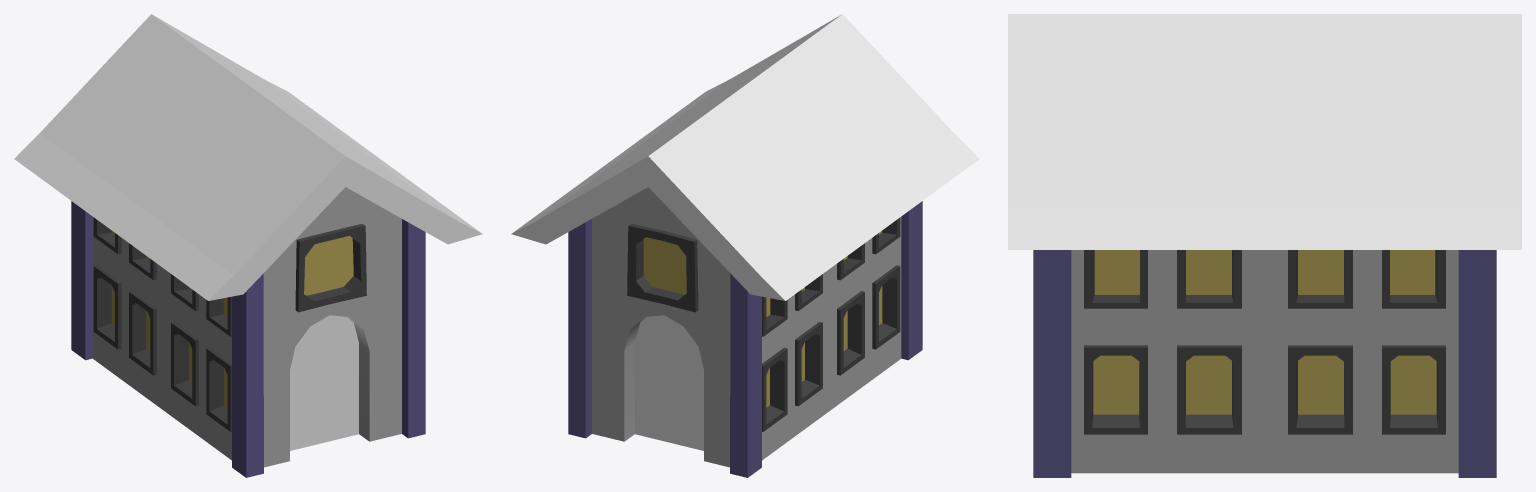
Rendered from biggerhouse.fbx.
3 renders of one model, left to right at view 1: azimuth 30°, elevation 25°; view 2: azimuth 150°, elevation 25°; view 3: azimuth 270°, elevation 25°, orthographic. The views are drawn at different scales.
Visible parts, largest first — view 1: pCube42; view 2: pCube42; view 3: pCube42.
Part boxes in pixels (x1,y1,x2,y2): pCube42: (14,14,482,477); pCube42: (511,14,979,477); pCube42: (1008,14,1521,477).
Bounding box in the file's own units: 7.29 × 7.79 × 8.94.
